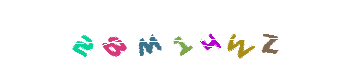1: (137, 0, 217, 80)
2: (43, 0, 123, 80)
4: (141, 0, 221, 80)
8: (74, 0, 154, 80)
M: (108, 0, 188, 80)
W: (171, 0, 251, 80)
Z: (195, 0, 275, 80)
